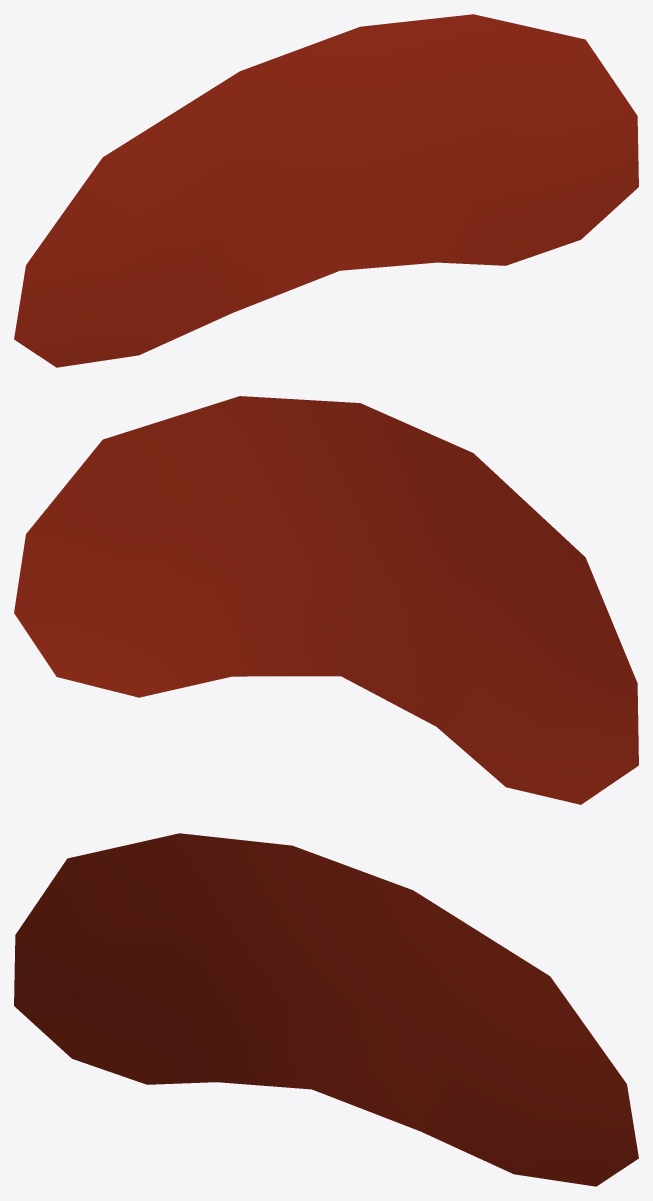
File: Mouth_Red_7.fbx
The picture shows the model from 3 angles, top to bottom: view 1: azimuth 30°, elevation 25°; view 2: azimuth 150°, elevation 25°; view 3: azimuth 330°, elevation 25°; orthographic projection.
Parts seen in each view (by area): view 1: Mouth_Red_7; view 2: Mouth_Red_7; view 3: Mouth_Red_7.
Boxes of the visible parts, x1,y1,x2,y2 form: Mouth_Red_7: [14, 14, 638, 367]; Mouth_Red_7: [14, 396, 638, 804]; Mouth_Red_7: [14, 833, 638, 1186].
Bounding box in the file's own units: 7.44 × 3.55 × 0.8569.
